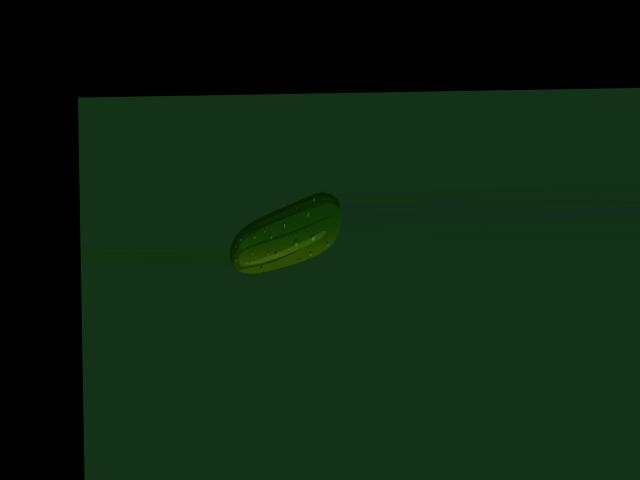cucumber: (228, 191, 342, 273)
